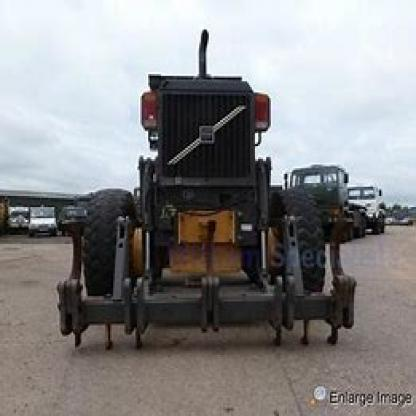bull_dozer/loader/grader: (59, 46, 352, 355)
